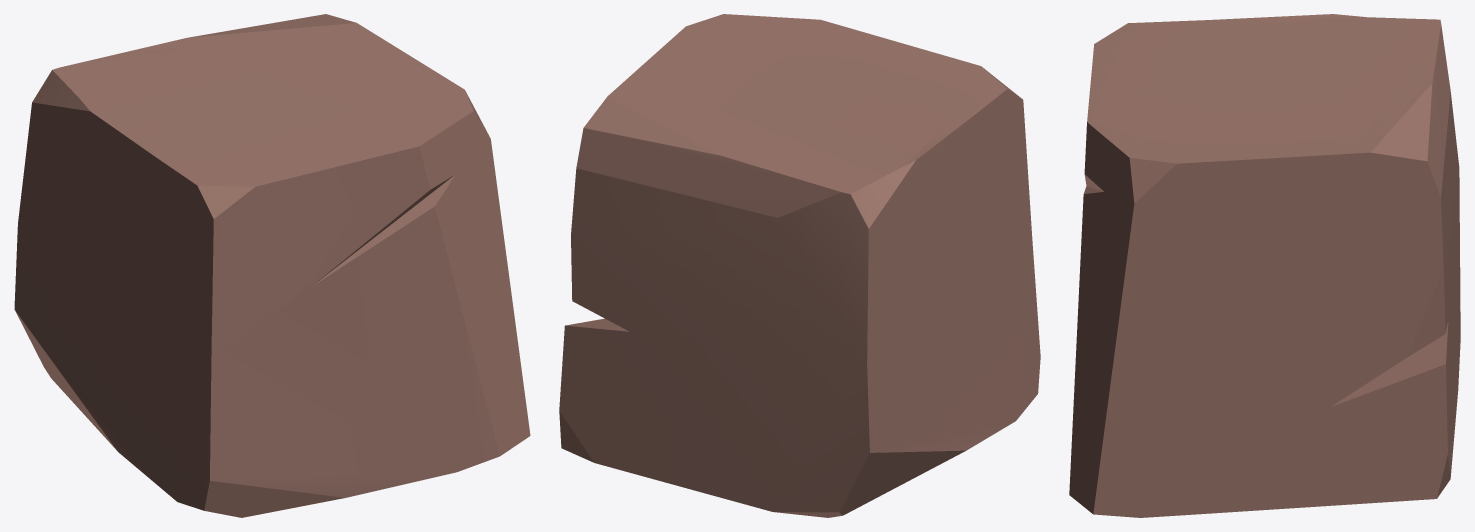
The model's file is Stone_004.FBX.
3 renders of one model, left to right at view 1: azimuth 30°, elevation 25°; view 2: azimuth 150°, elevation 25°; view 3: azimuth 270°, elevation 25°, orthographic. The views are drawn at different scales.
Visible parts, largest first — view 1: Stone_004; view 2: Stone_004; view 3: Stone_004.
Boxes of the visible parts, x1,y1,x2,y2 form: Stone_004: [14, 14, 530, 517]; Stone_004: [559, 14, 1040, 517]; Stone_004: [1069, 14, 1460, 517].
Size of the model in its own units: 84.25 by 79.29 by 80.16.
